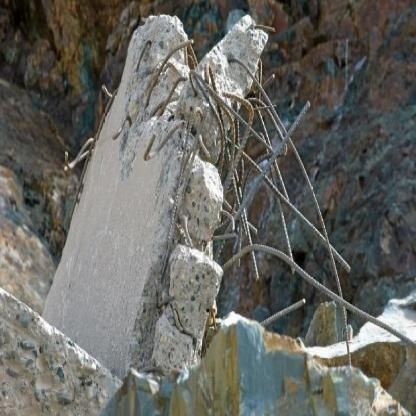rebar: (143, 29, 414, 365), (62, 80, 119, 220)
